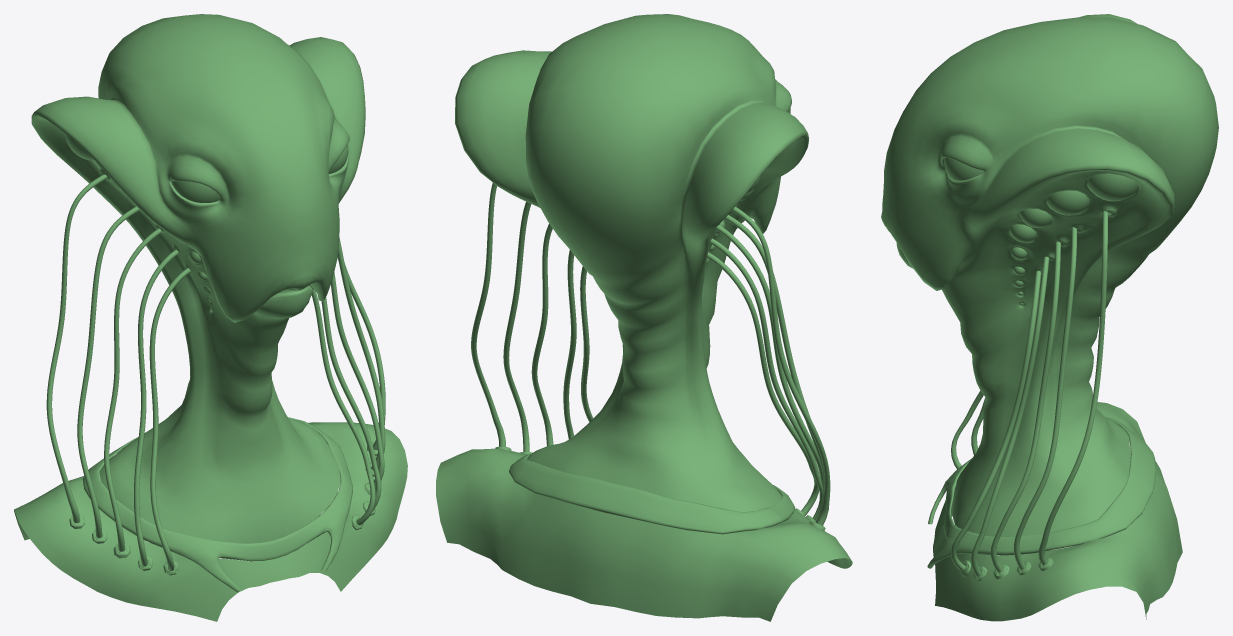
Rendered from CharacterBust.fbx.
3 views of the same model, side by side, from view 1: azimuth 30°, elevation 25°; view 2: azimuth 150°, elevation 25°; view 3: azimuth 270°, elevation 25° (orthographic). The views are drawn at different scales.
Visible parts, largest first — view 1: polySurface1; view 2: polySurface1; view 3: polySurface1.
Part boxes in pixels (x1,y1,x2,y2): polySurface1: (14,14,407,621); polySurface1: (436,14,852,621); polySurface1: (881,14,1218,621).
Size of the model in its own units: 27.52 by 36.71 by 20.65.
